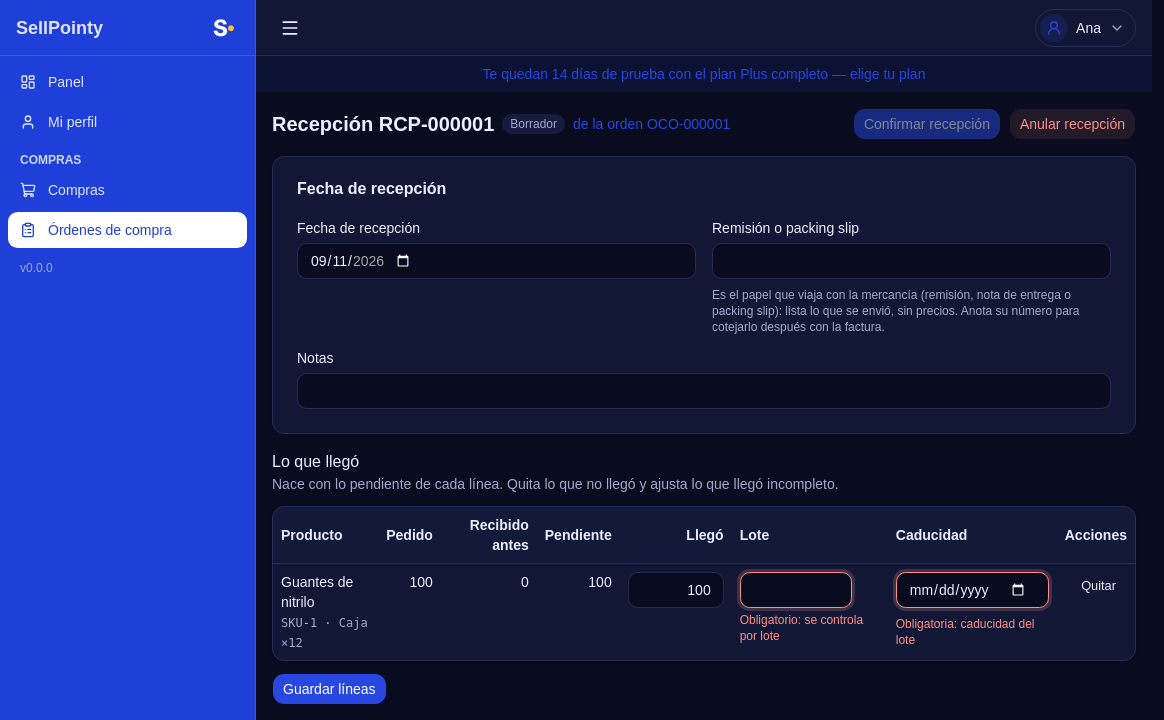
Scenario: Recepción de una orden (F9-PO-13) › «Guardar líneas» con «Llegó» vacío no envía y dice «Línea 1 · Llegó»
This screenshot has width=1164, height=720.
Clear the field named "Llegó": (676, 590) [628,572,724,608]
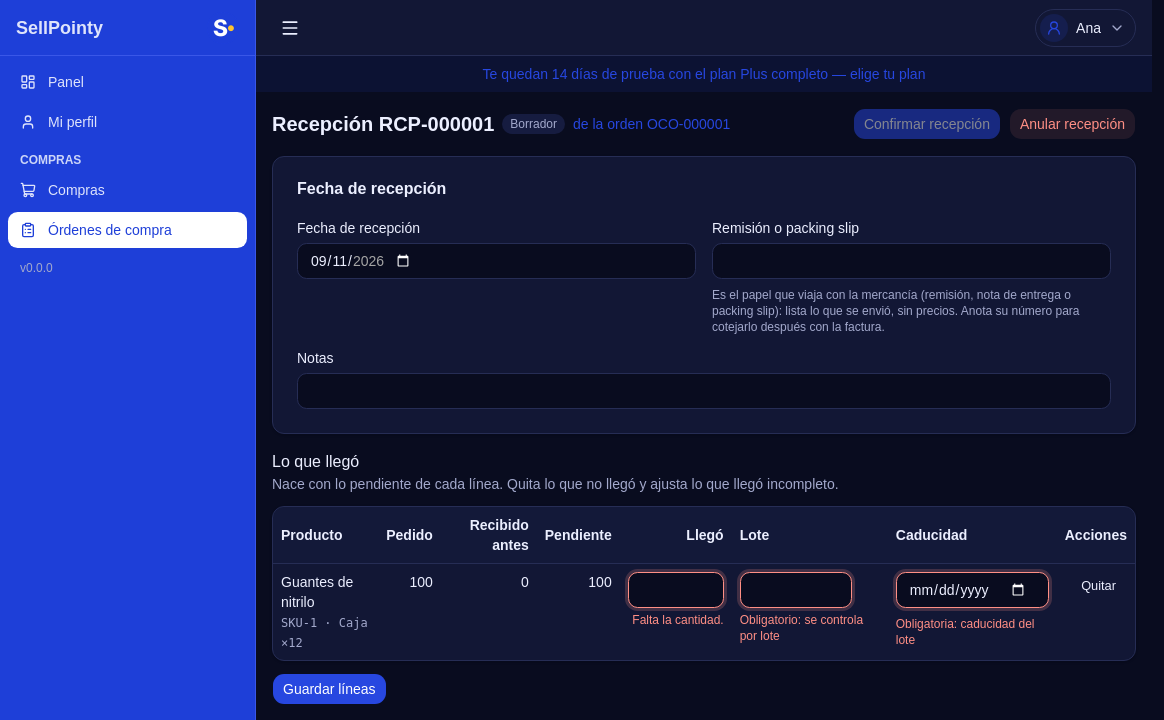
Click the button "Guardar líneas": (329, 689) [272,673,387,705]
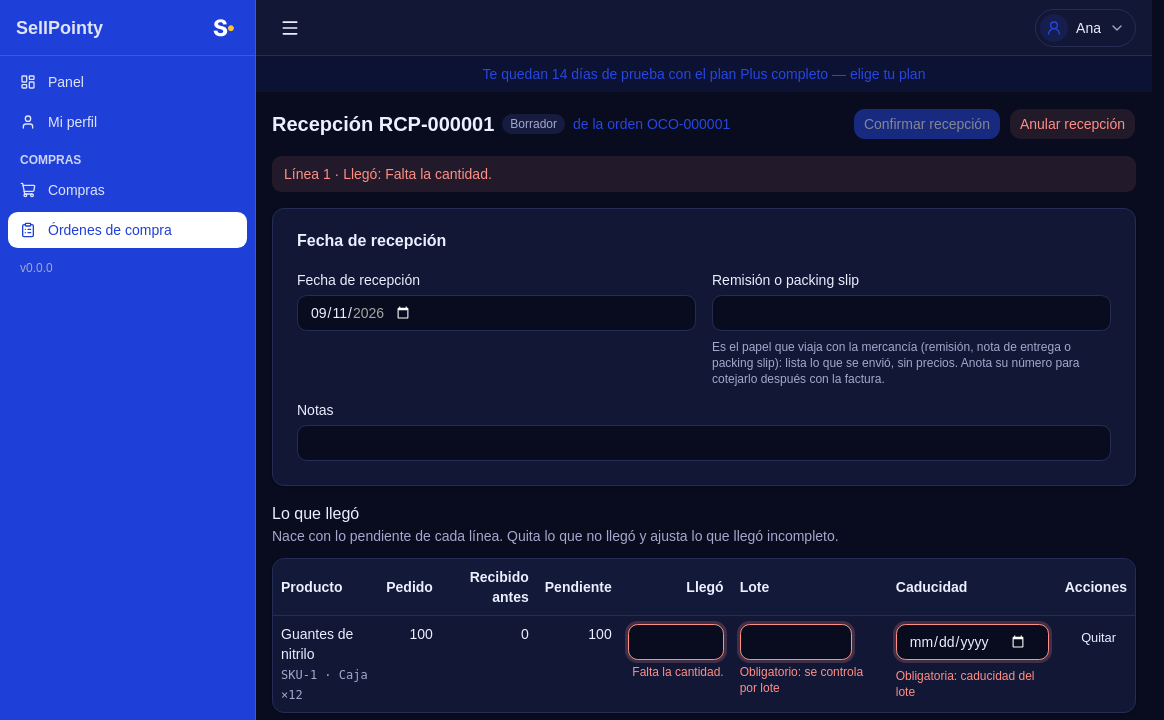
Expected: the text "Línea 1 · Llegó: Falta la cantidad." is shown, [272,156,1136,192]
